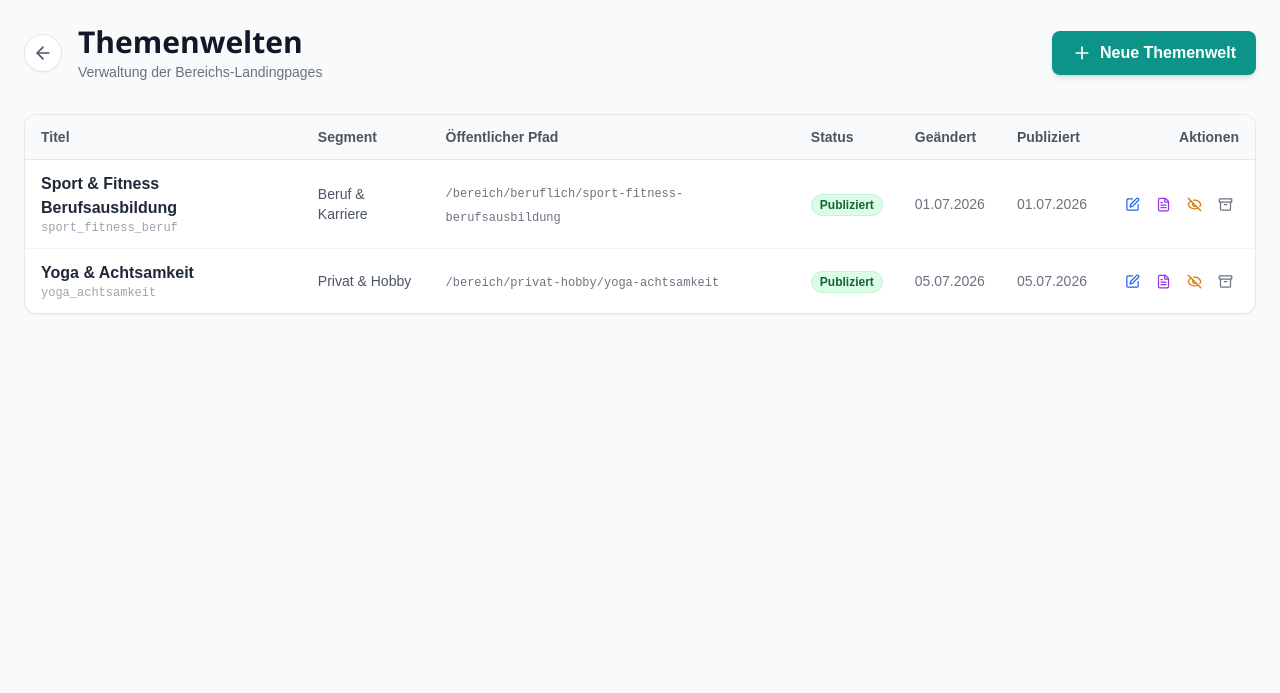
Test: Edit-Modus Regression › Sport wird korrekt geladen
This screenshot has width=1280, height=693.
Expected: the text "Sport & Fitness Berufsausbildung" is shown, top-left (41, 175), bottom-right (177, 216)
What coordinates should you click on to do the following:
click the button titled "Bearbeiten" in the row of "Beruf & Karriere"
I would click on:
 (1132, 204)
Its box is top-left (1119, 190), bottom-right (1146, 218).
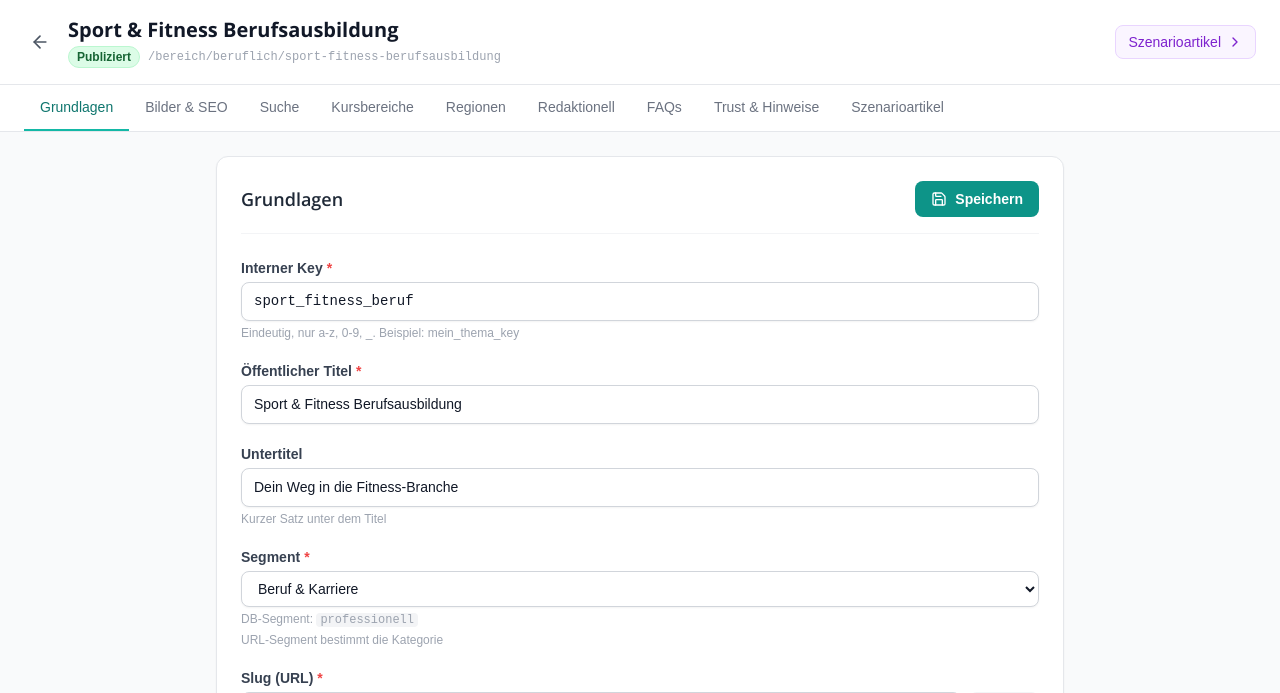
Expected: the dropdown shows "Beruf & Karriere", top-left (241, 571), bottom-right (1039, 607)
